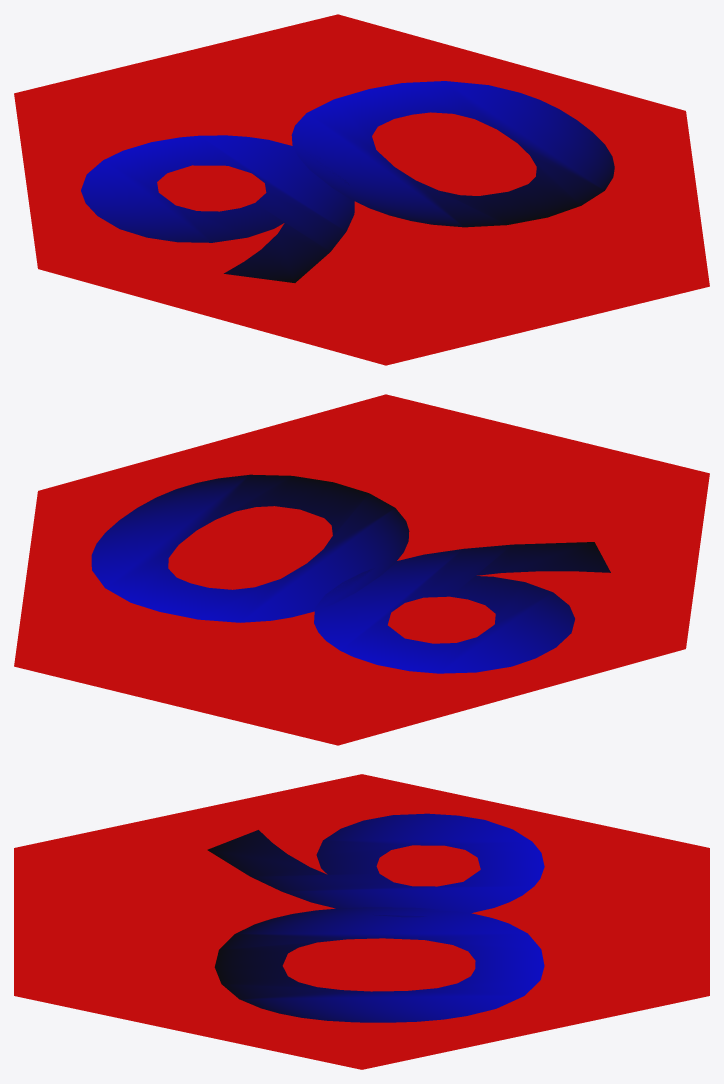
Rendered from SM_Number_90.fbx.
3 renders of one model, top to bottom at view 1: azimuth 30°, elevation 25°; view 2: azimuth 150°, elevation 25°; view 3: azimuth 270°, elevation 25°, orthographic. The views are drawn at different scales.
Parts seen in each view (by area): view 1: FBX_OUT; view 2: FBX_OUT; view 3: FBX_OUT.
Boxes of the visible parts, bbox=[...] form: FBX_OUT: bbox=[14, 14, 709, 365]; FBX_OUT: bbox=[14, 394, 709, 745]; FBX_OUT: bbox=[14, 774, 709, 1069].
Bounding box in the file's own units: 50 × 0.2917 × 49.71.
